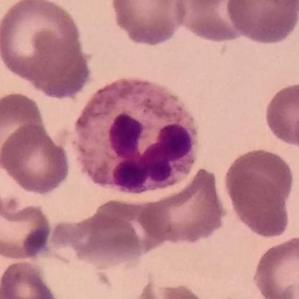Neutrophil: (67, 72, 206, 200)
RBC: (137, 165, 230, 248), (0, 0, 87, 86), (221, 145, 296, 234), (84, 196, 170, 262), (0, 121, 72, 196), (64, 210, 146, 270), (108, 0, 190, 48), (0, 89, 48, 169), (0, 194, 54, 262), (172, 0, 255, 44), (224, 0, 299, 46), (250, 233, 299, 299), (261, 80, 299, 149), (0, 258, 63, 299), (134, 279, 212, 299)
